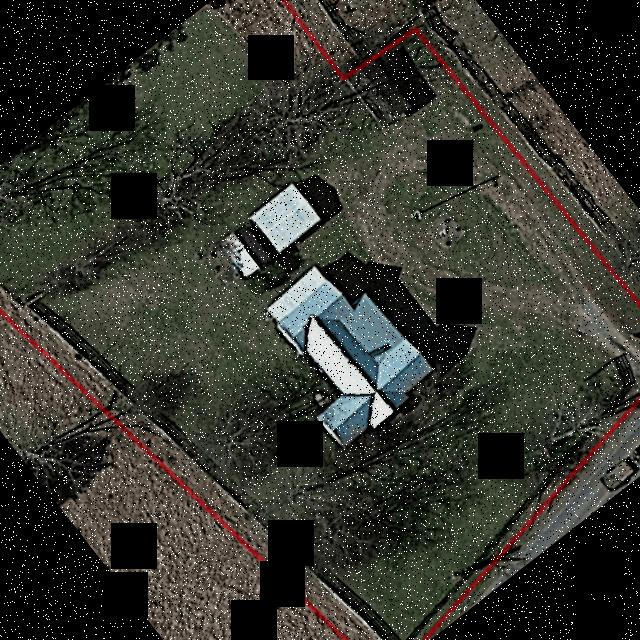Driveway: (359, 149, 640, 378), (385, 170, 558, 293)
House: (268, 264, 435, 450), (249, 182, 321, 252), (219, 223, 272, 280)
